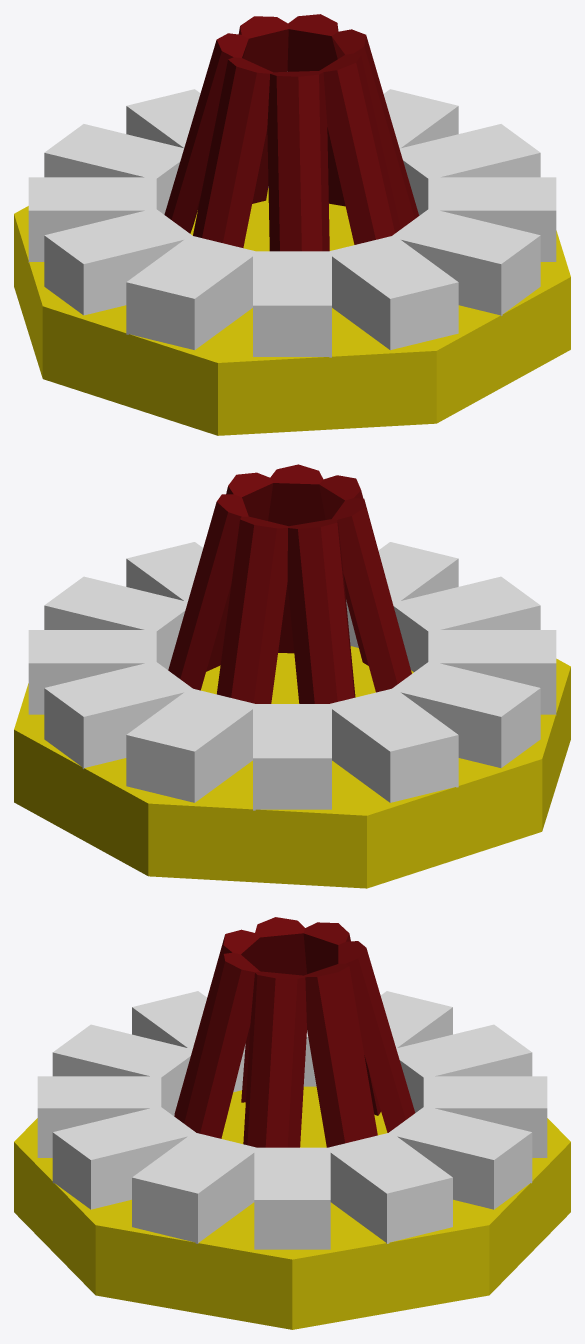
File: bonfire_1.FBX
3 views of the same model, one above another, from view 1: azimuth 30°, elevation 25°; view 2: azimuth 150°, elevation 25°; view 3: azimuth 270°, elevation 25° (orthographic). The views are drawn at different scales.
Parts seen in each view (by area): view 1: bonfire_1; view 2: bonfire_1; view 3: bonfire_1.
Part boxes in pixels (bbox=[...]): bonfire_1: bbox=[14, 14, 570, 435]; bonfire_1: bbox=[14, 464, 570, 888]; bonfire_1: bbox=[14, 917, 570, 1329].
Size of the model in its own units: 1.58 by 0.8292 by 1.58.
1 material, 1 textured.
